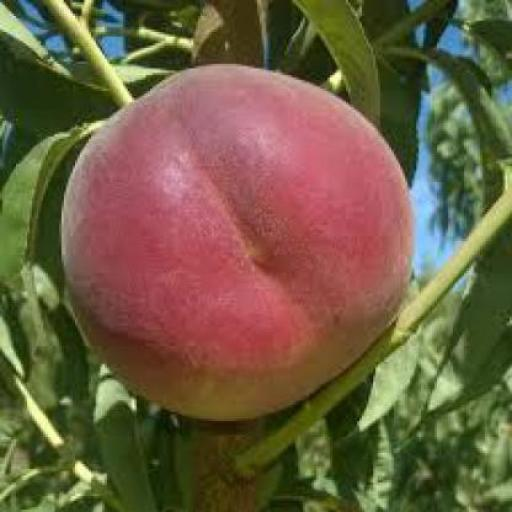biodegradable: (59, 59, 412, 423)
